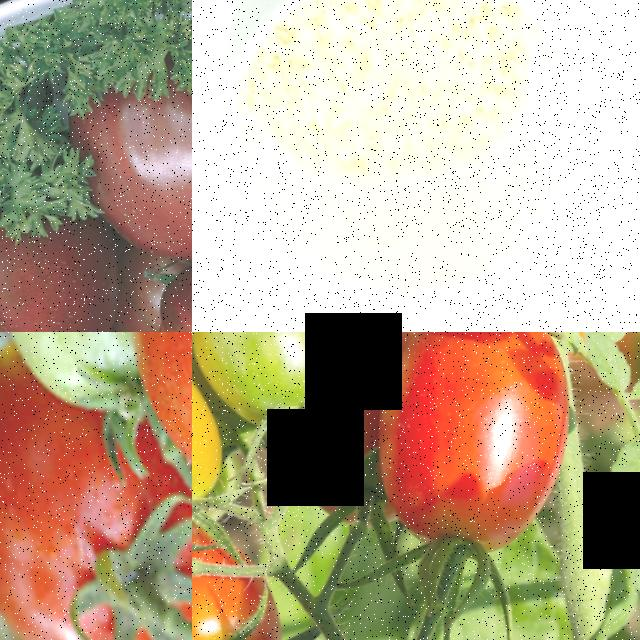tomato: (336, 332, 611, 585), (0, 382, 192, 640), (88, 332, 192, 538), (192, 494, 304, 640)
white rice: (227, 0, 544, 209)
